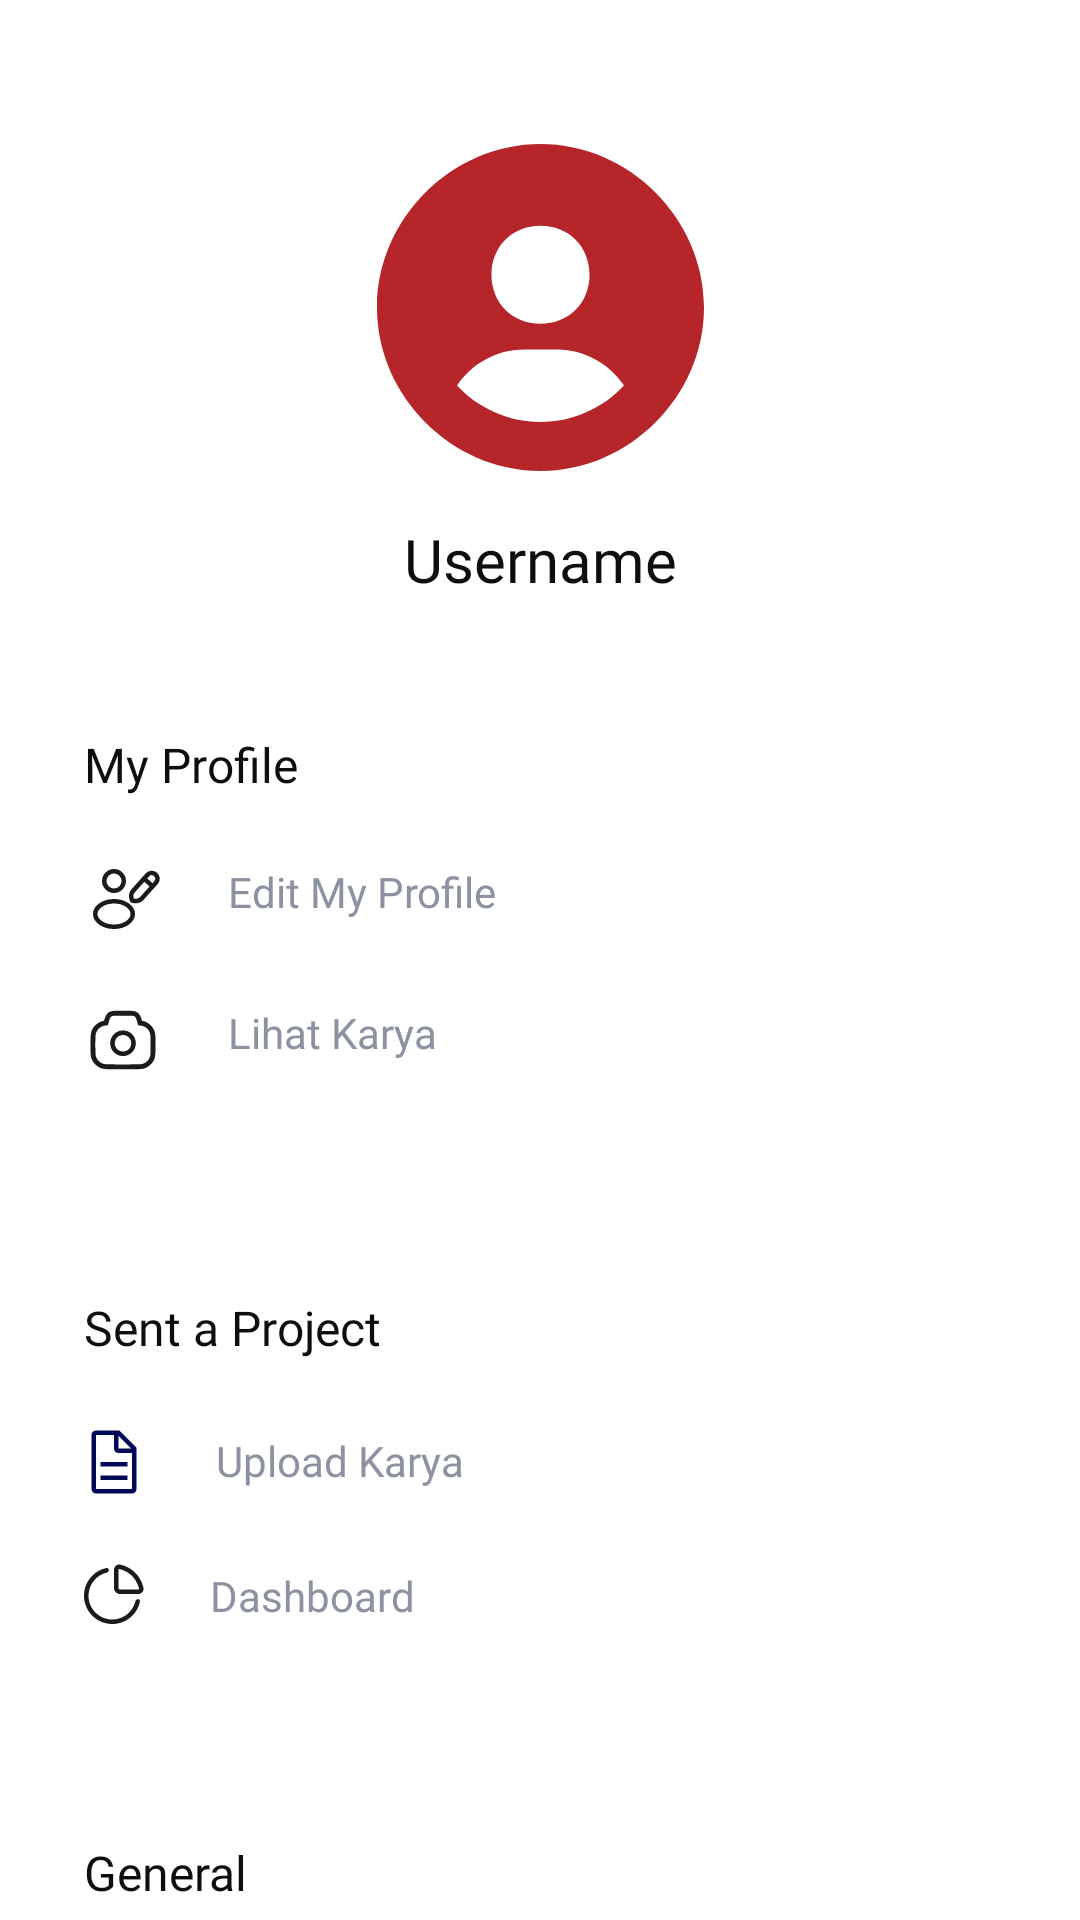

Icons on this 1080px×1920px Android screen, each with its box as [left=x1, top=y1, right=x2, bottom=y2]:
user profile: [left=377, top=144, right=704, bottom=471]
